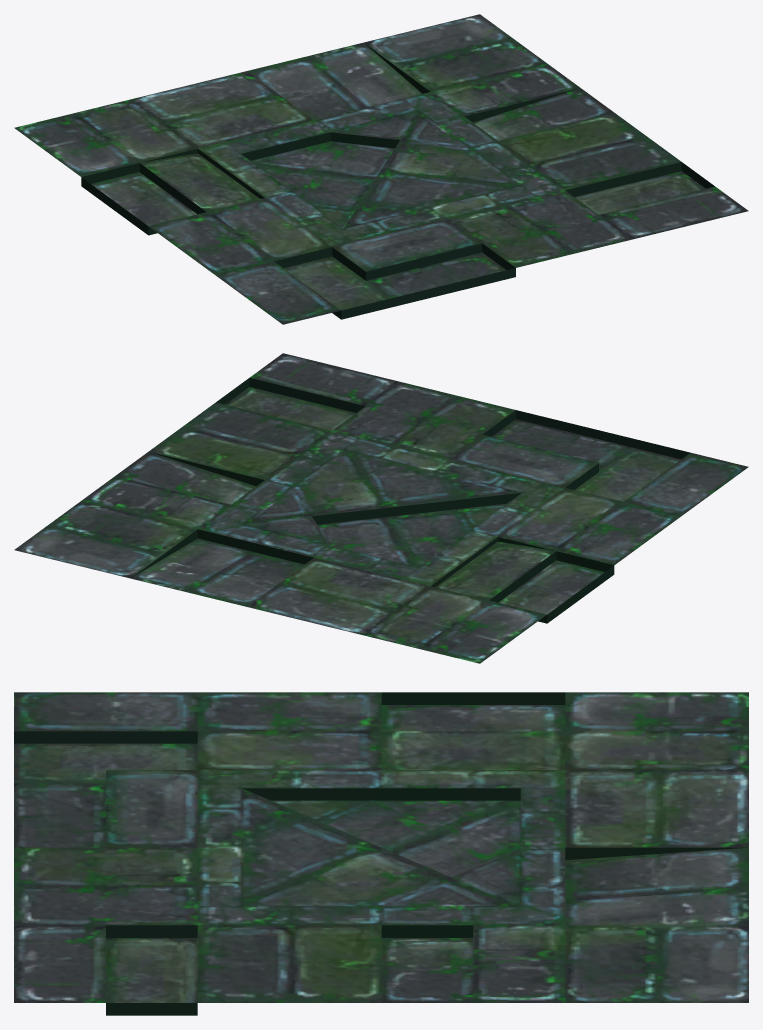
File: stemple_floor_blank_01_a.fbx
The picture shows the model from 3 angles, top to bottom: view 1: azimuth 30°, elevation 25°; view 2: azimuth 150°, elevation 25°; view 3: azimuth 270°, elevation 25°; orthographic projection. The views are drawn at different scales.
Visible parts, largest first — view 1: stemple_floor_blank_01_a-0; view 2: stemple_floor_blank_01_a-0; view 3: stemple_floor_blank_01_a-0.
Part boxes in pixels (<box>): stemple_floor_blank_01_a-0: <box>14,14,748,324</box>; stemple_floor_blank_01_a-0: <box>14,353,748,663</box>; stemple_floor_blank_01_a-0: <box>14,692,748,1015</box>.
Bounding box in the file's own units: 4 × 0.075 × 4.
